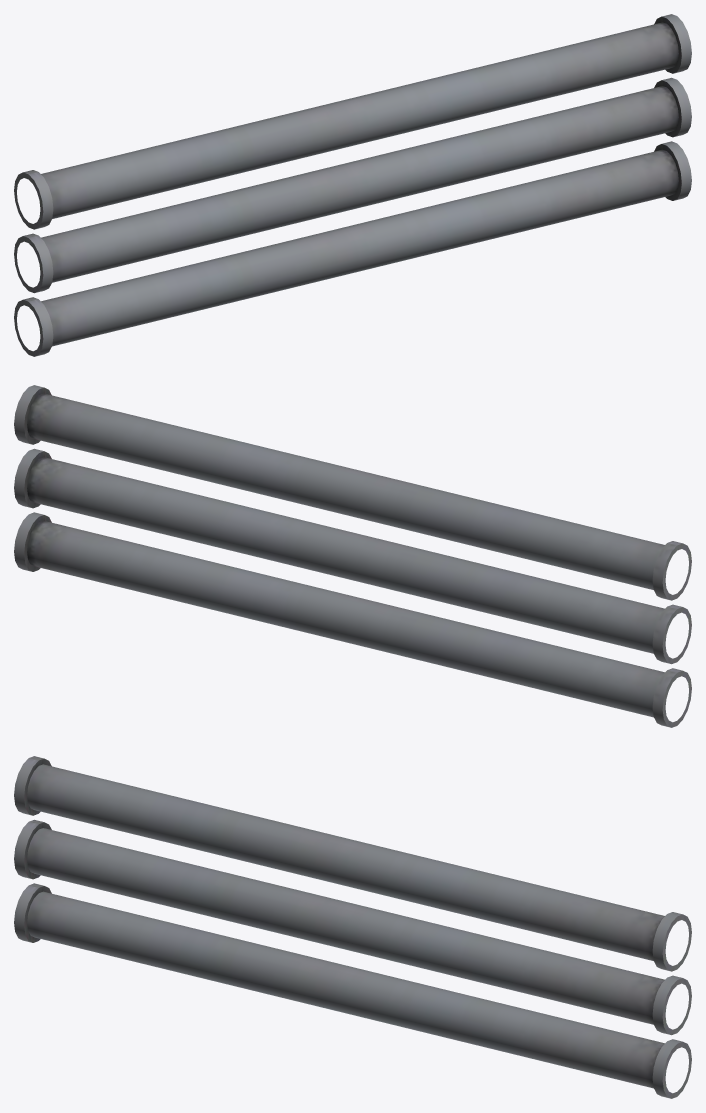
The picture shows the model from 3 angles, top to bottom: view 1: azimuth 30°, elevation 25°; view 2: azimuth 150°, elevation 25°; view 3: azimuth 330°, elevation 25°; orthographic projection.
Parts seen in each view (by area): view 1: body0_model0_lod0_mesh0; view 2: body0_model0_lod0_mesh0; view 3: body0_model0_lod0_mesh0.
Part boxes in pixels (x1,y1,x2,y2): body0_model0_lod0_mesh0: (14,14,691,356); body0_model0_lod0_mesh0: (14,385,691,727); body0_model0_lod0_mesh0: (14,756,691,1098).
Size of the model in its own units: 128 by 34.02 by 10.02.
Materials: 1 (1 with a texture image).
